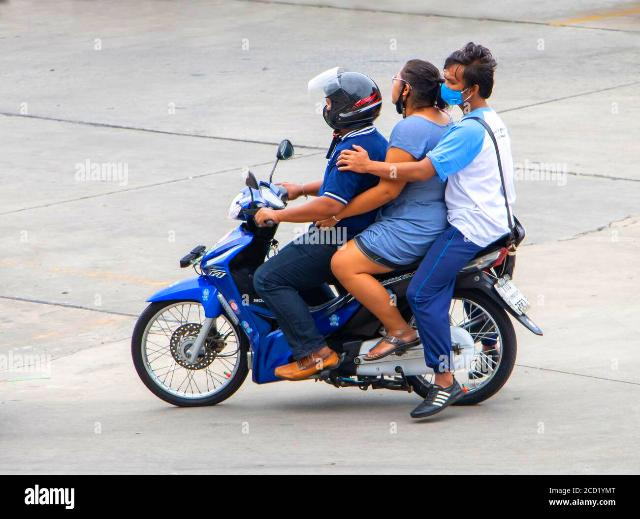helm: (310, 68, 382, 130)
motor: (133, 137, 520, 409)
non-helm: (443, 44, 496, 105), (390, 60, 443, 110)
